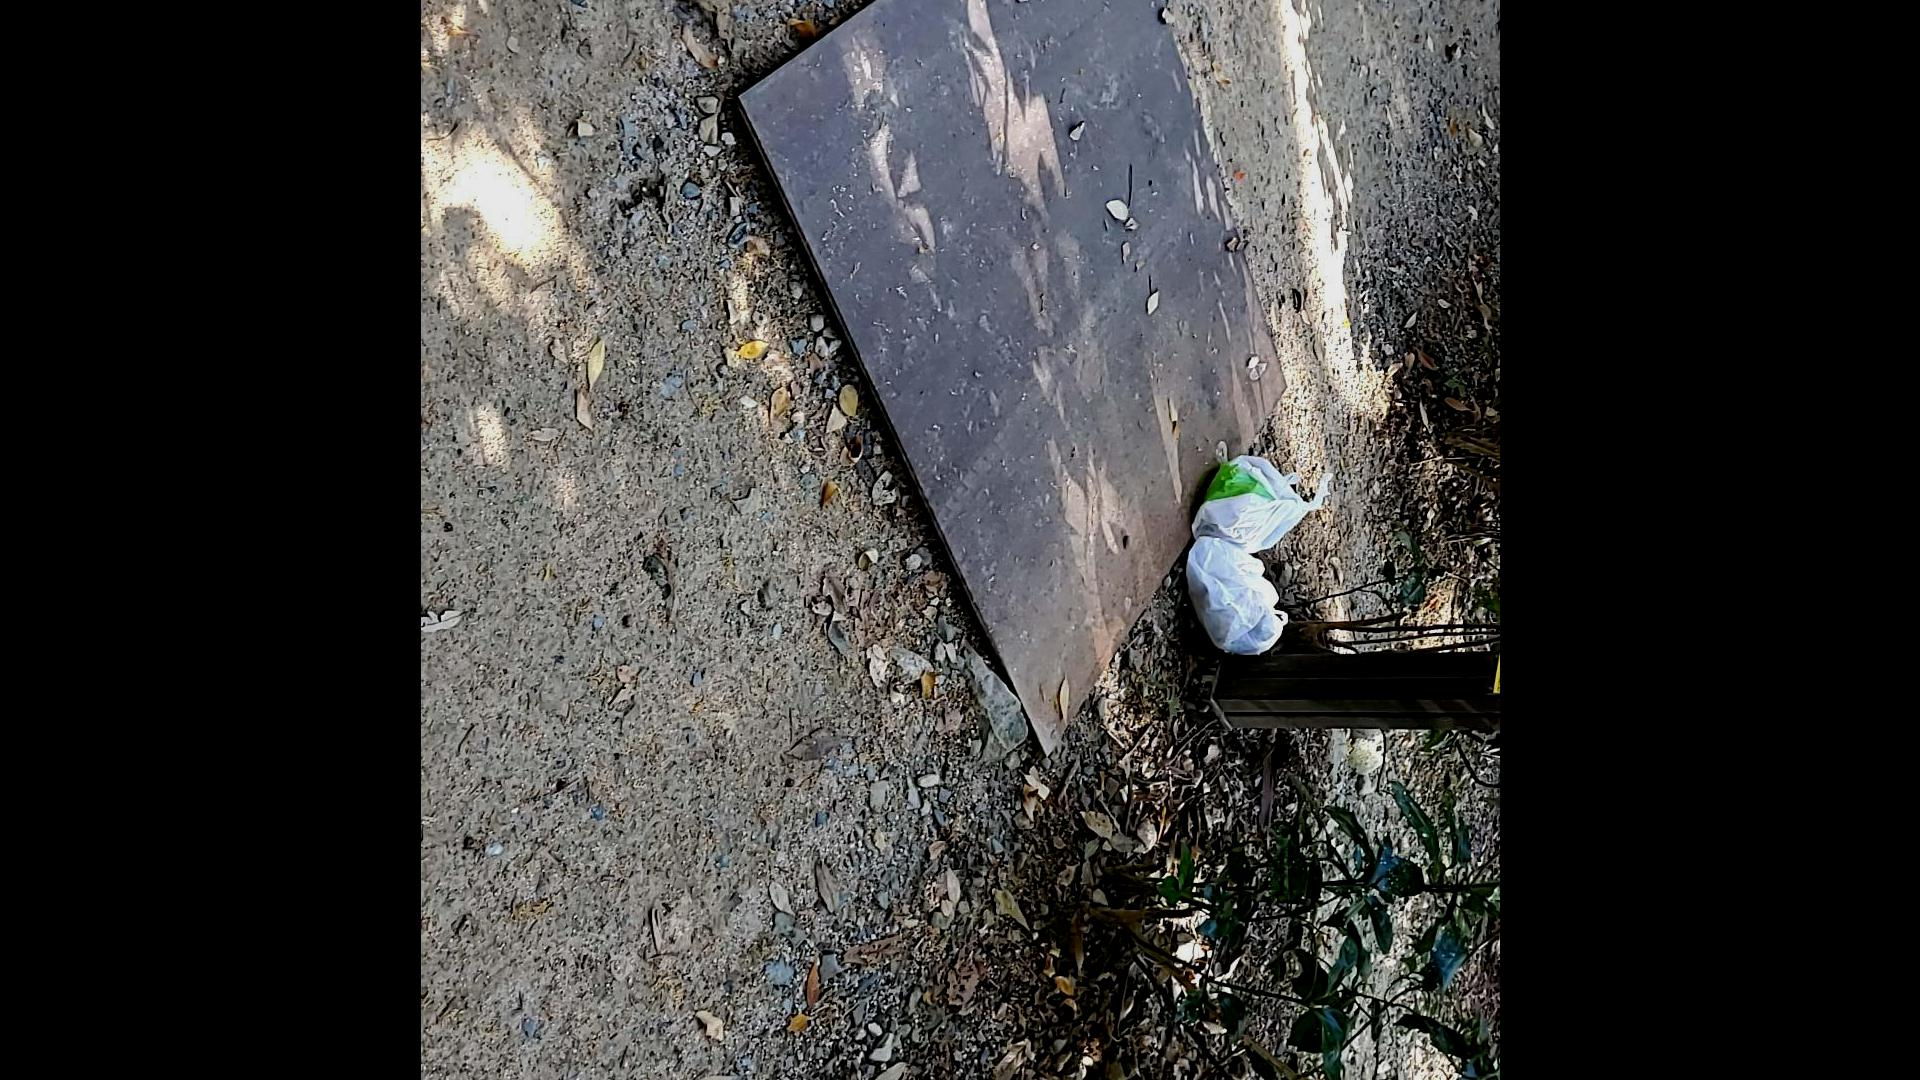white_bag: (1188, 444, 1341, 558), (1182, 534, 1294, 659)
